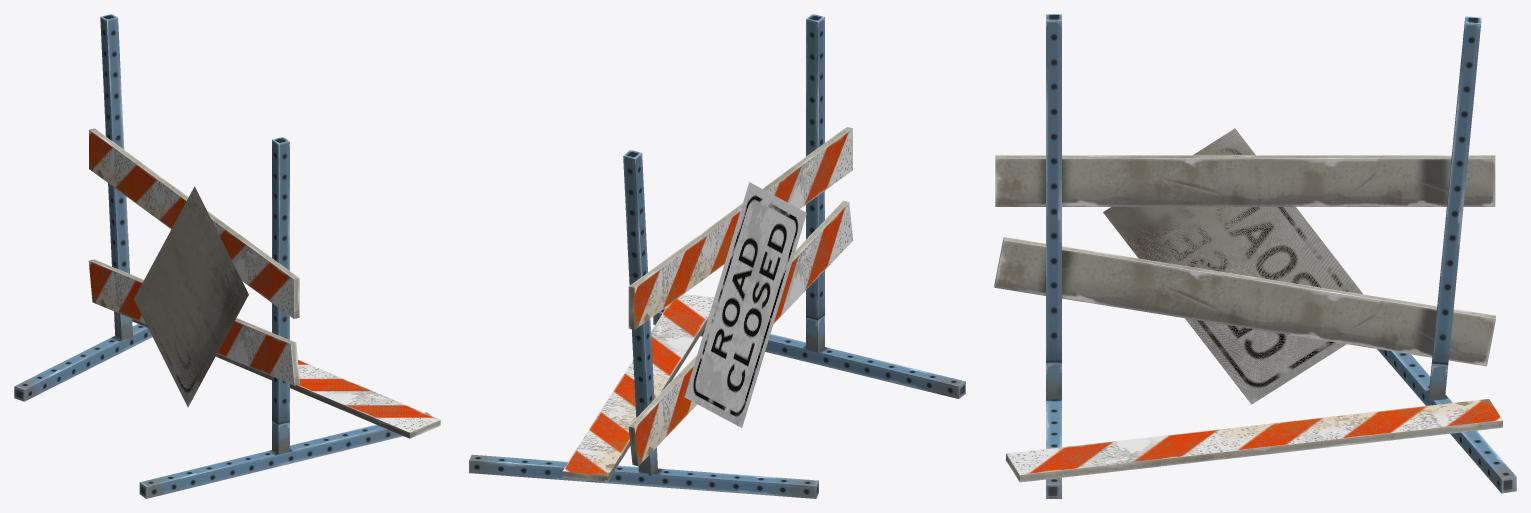
Rendered from trafficBarricade04_B.fbx.
The picture shows the model from 3 angles, left to right: view 1: azimuth 30°, elevation 25°; view 2: azimuth 150°, elevation 25°; view 3: azimuth 270°, elevation 25°; orthographic projection. The views are drawn at different scales.
Visible parts, largest first — view 1: trafficBarricade04_B; view 2: trafficBarricade04_B; view 3: trafficBarricade04_B.
Part boxes in pixels (x1=…): trafficBarricade04_B: x1=14, y1=14, x2=440, y2=498; trafficBarricade04_B: x1=469, y1=14, x2=965, y2=498; trafficBarricade04_B: x1=994, y1=14, x2=1516, y2=498.
Size of the model in its own units: 152 by 164 by 196.
